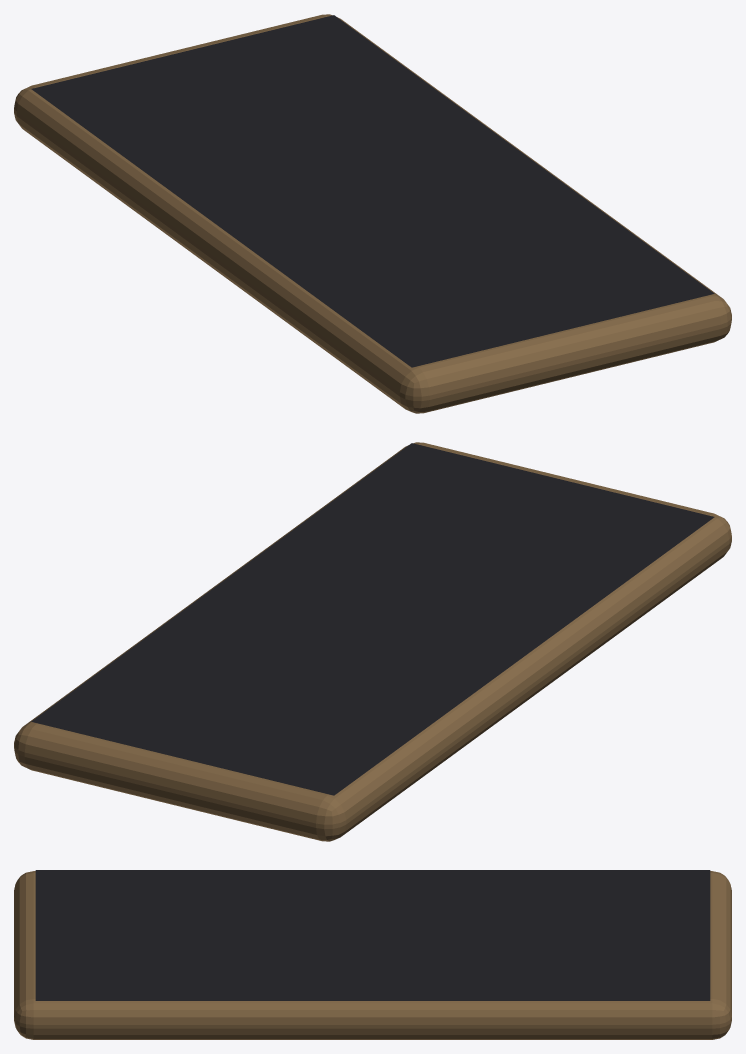
File: motorola-moto-g-model-127-budget-2021.glb
3 views of the same model, one above another, from view 1: azimuth 30°, elevation 25°; view 2: azimuth 150°, elevation 25°; view 3: azimuth 270°, elevation 25° (orthographic). The views are drawn at different scales.
Visible parts, largest first — view 1: Phone_Screen, Phone_Body; view 2: Phone_Screen, Phone_Body; view 3: Phone_Screen, Phone_Body.
Part boxes in pixels (x1=…): Phone_Screen: x1=31, y1=15, x2=714, y2=367; Phone_Body: x1=14, y1=14, x2=731, y2=413; Phone_Screen: x1=31, y1=443, x2=714, y2=795; Phone_Body: x1=14, y1=442, x2=731, y2=841; Phone_Screen: x1=35, y1=870, x2=710, y2=1000; Phone_Body: x1=14, y1=871, x2=731, y2=1039.
Size of the model in its own units: 0.0747 by 0.0097 by 0.1591.
